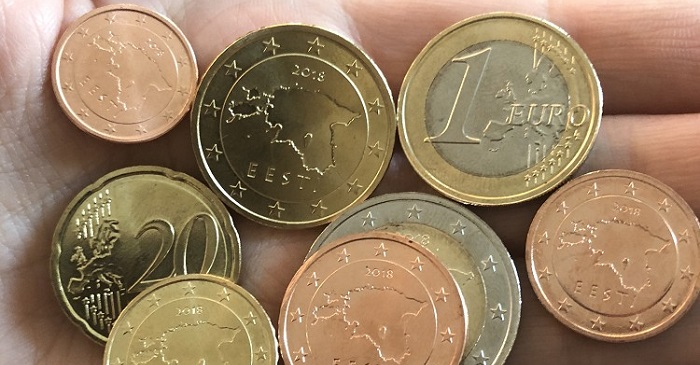euro_1: (396, 8, 605, 207)
